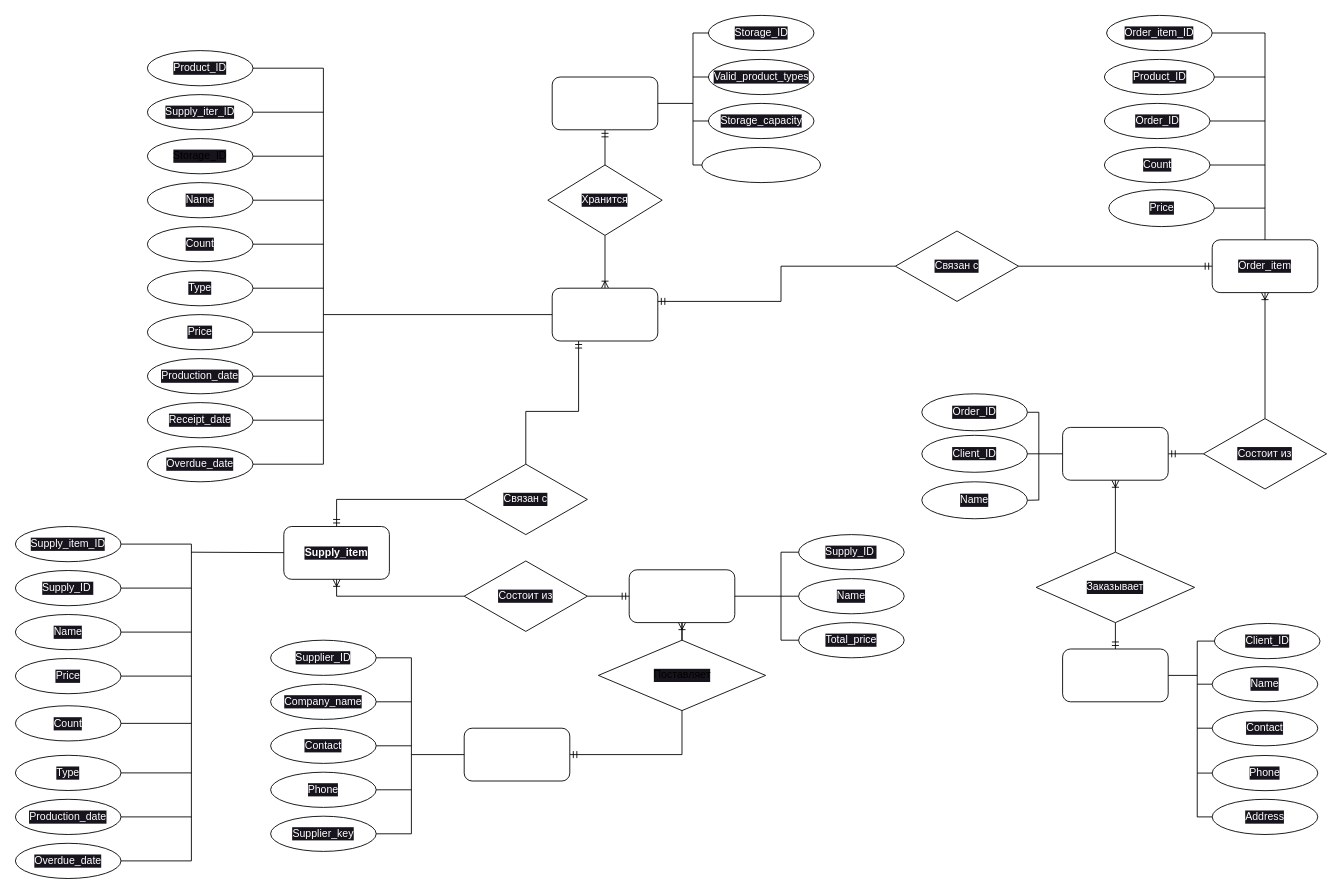
Image size: 1342x894. Some labels were removed from this diagram. Each missing label, with the centre of its shape:
Client: (1115,675)
Order: (1115,453)
Product: (604,314)
Storage: (604,103)
Storage_max_capacity: (761,165)
Supplier: (516,754)
Supply: (681,596)
